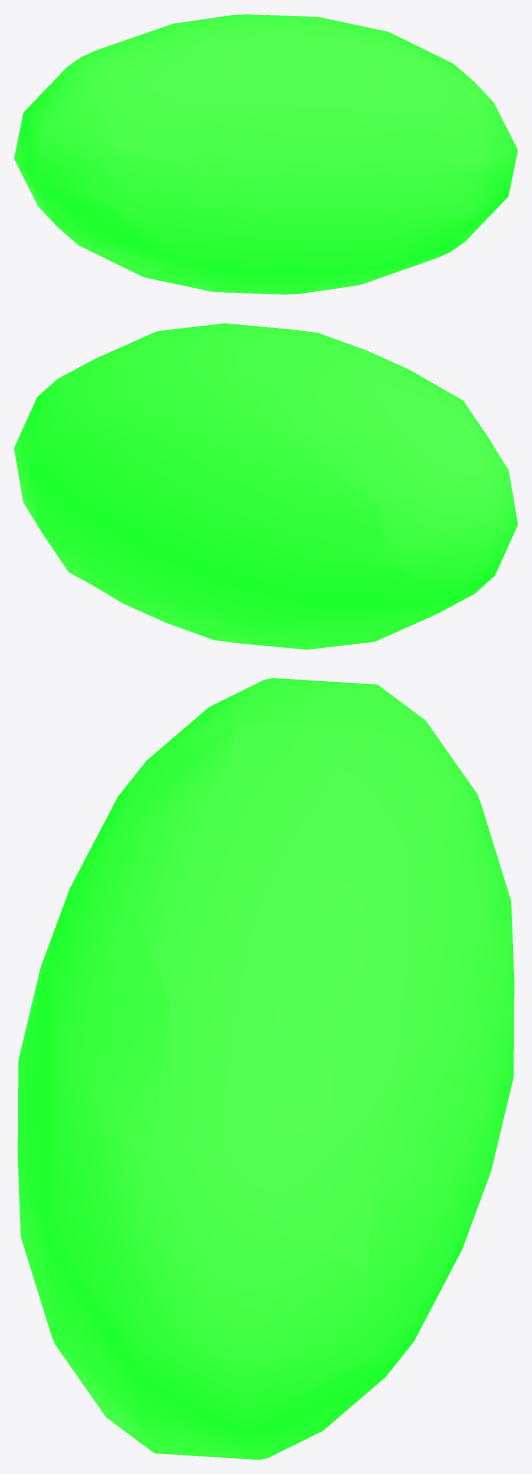
Rendered from uranium.fbx.
The picture shows the model from 3 angles, top to bottom: view 1: azimuth 30°, elevation 25°; view 2: azimuth 150°, elevation 25°; view 3: azimuth 270°, elevation 25°; orthographic projection. The views are drawn at different scales.
Parts seen in each view (by area): view 1: Mball; view 2: Mball; view 3: Mball.
Part boxes in pixels (x1,y1,x2,y2): Mball: (14,14,517,294); Mball: (14,323,517,649); Mball: (17,678,514,1459).
Size of the model in its own units: 261 by 148 by 124.
